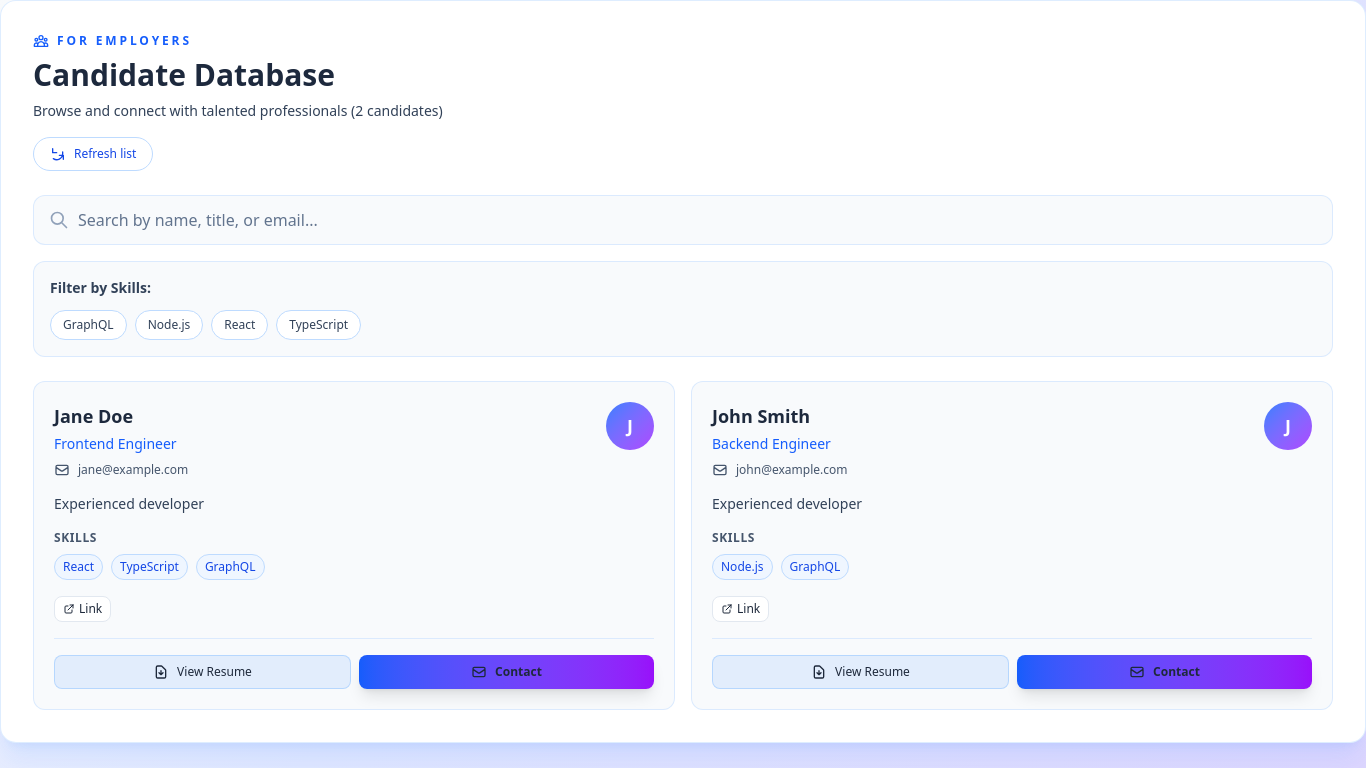
Test case: CandidateList › shows an error when refresh fails
This screenshot has width=1366, height=768.
Click the button "Refresh list" at (93, 154), box [33,137,153,171]
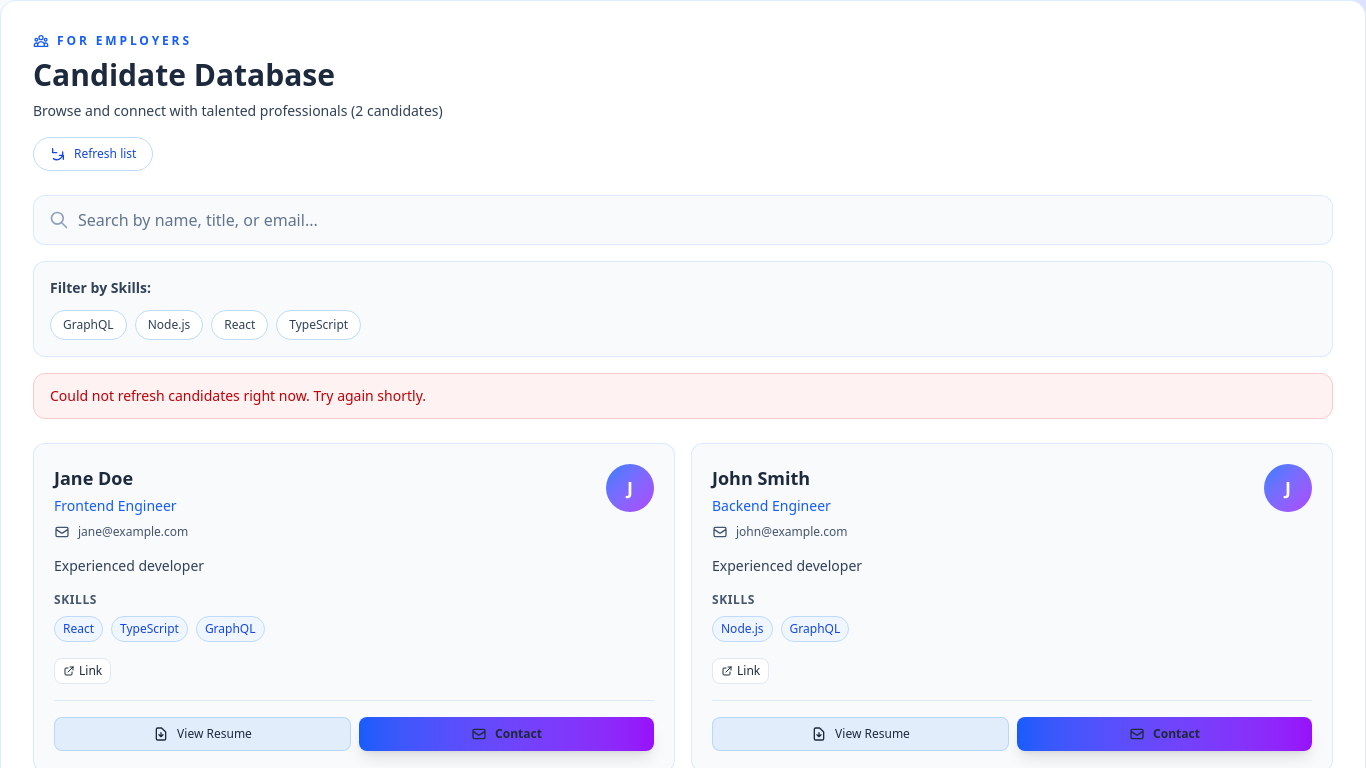
Check: the message shows "Could not refresh candidates", box [50,386,426,405]
